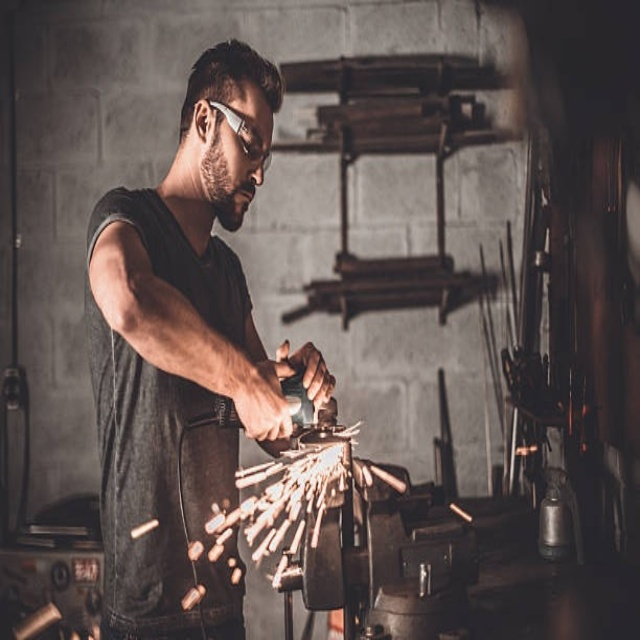Gafas: (208, 100, 273, 178)
Sin_guantes: (233, 359, 293, 444), (279, 338, 336, 410)
Sin_mascara: (222, 180, 260, 224)
